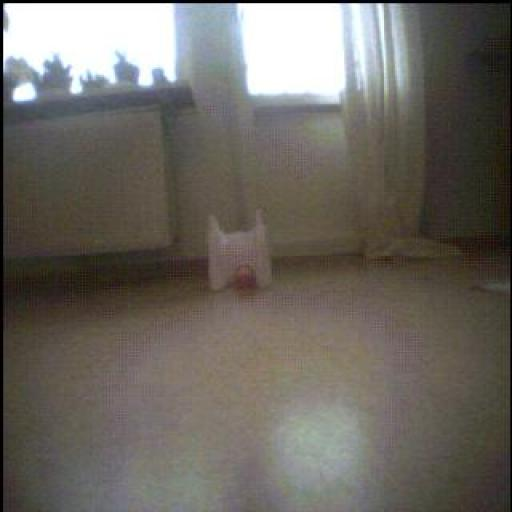Basket: (229, 264, 259, 296)
